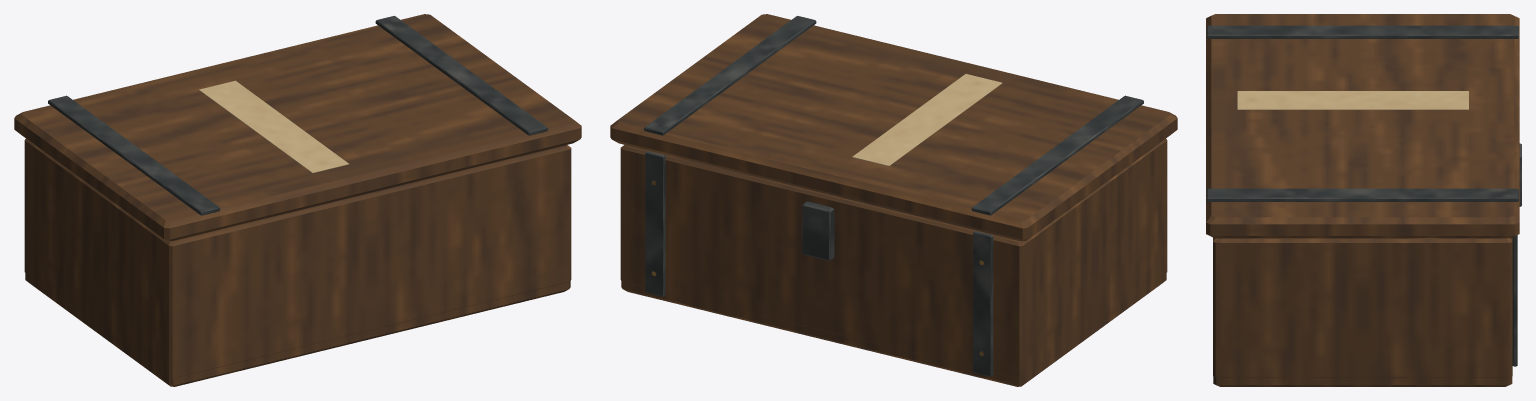
Rendered from PreservationBox.obj.
The picture shows the model from 3 angles, left to right: view 1: azimuth 30°, elevation 25°; view 2: azimuth 150°, elevation 25°; view 3: azimuth 270°, elevation 25°; orthographic projection.
Visible parts, largest first — view 1: Box_BaseAndHardware, Box_HingedLid; view 2: Box_BaseAndHardware, Box_HingedLid; view 3: Box_HingedLid, Box_BaseAndHardware.
Boxes of the visible parts, bbox=[...] form: Box_BaseAndHardware: bbox=[24, 139, 571, 386]; Box_HingedLid: bbox=[14, 14, 581, 241]; Box_BaseAndHardware: bbox=[620, 139, 1167, 386]; Box_HingedLid: bbox=[610, 14, 1177, 241]; Box_HingedLid: bbox=[1206, 14, 1519, 238]; Box_BaseAndHardware: bbox=[1213, 143, 1521, 386].
Bounding box in the file's own units: 0.51 × 0.2025 × 0.3275.
4 materials, 4 textured.
